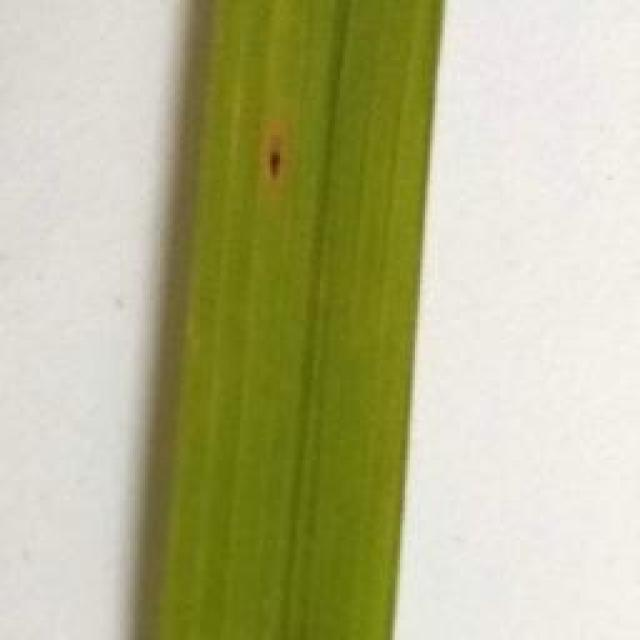Brown_Spot: (265, 115, 304, 213)
